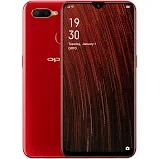oppo: (22, 1, 136, 159)
